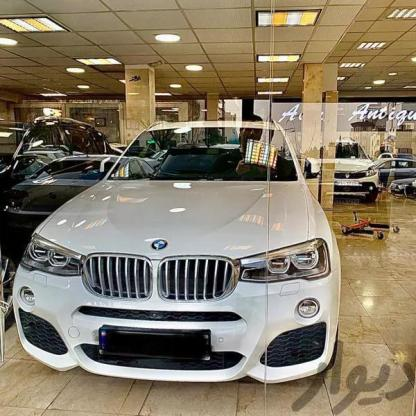Car: (13, 114, 356, 384), (317, 143, 378, 195)
